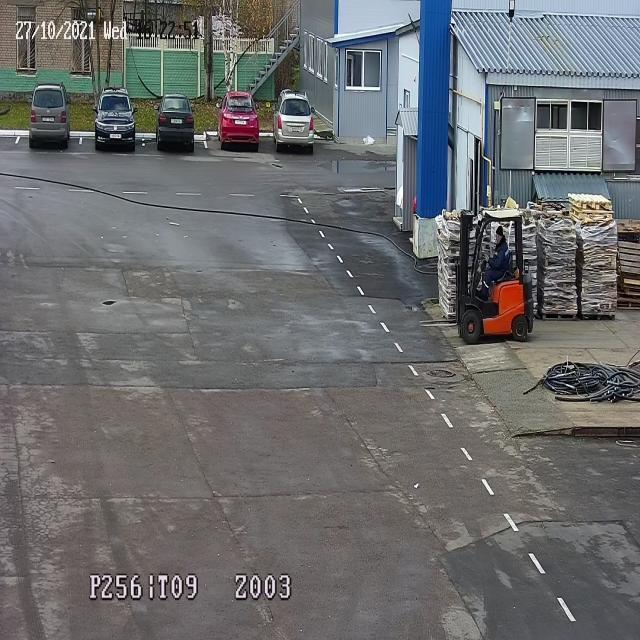car: (91, 80, 140, 154), (215, 83, 260, 156), (28, 82, 72, 152), (271, 92, 315, 157), (152, 92, 197, 154)
forklift: (456, 205, 534, 345)
